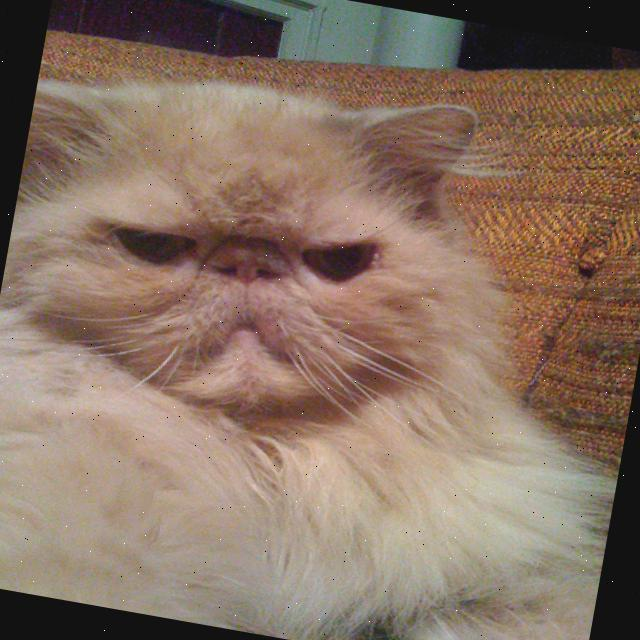cat-eye: (87, 215, 218, 293), (294, 228, 402, 300)
